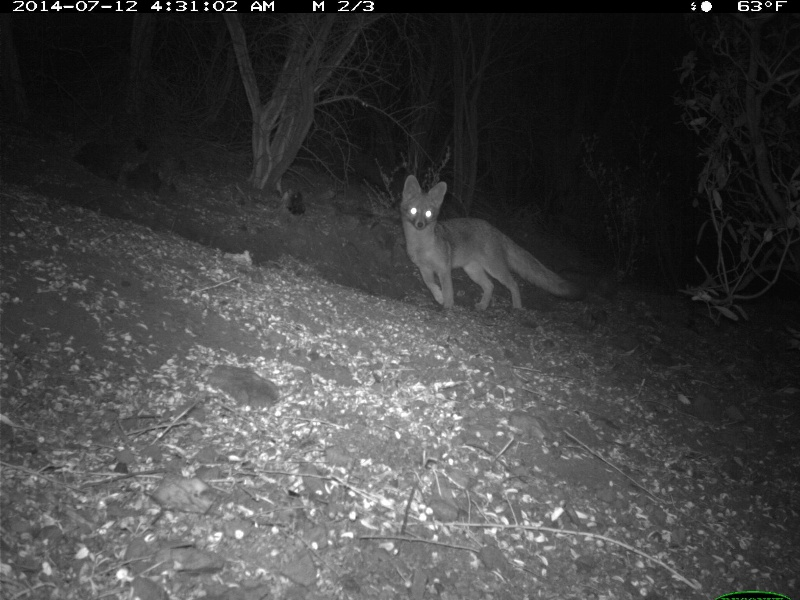fox: (395, 173, 581, 319)
